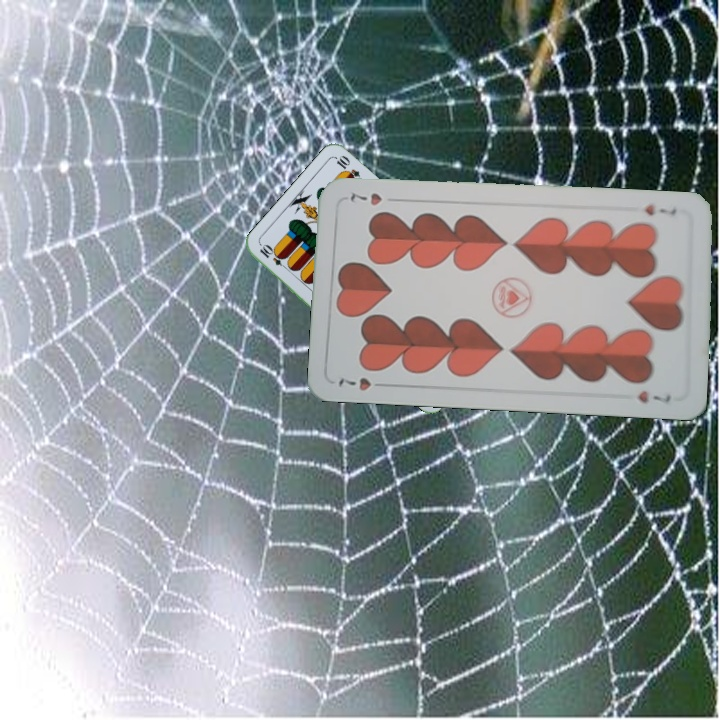E10: (256, 241, 292, 273)
H7: (335, 374, 391, 394), (640, 201, 679, 219)
